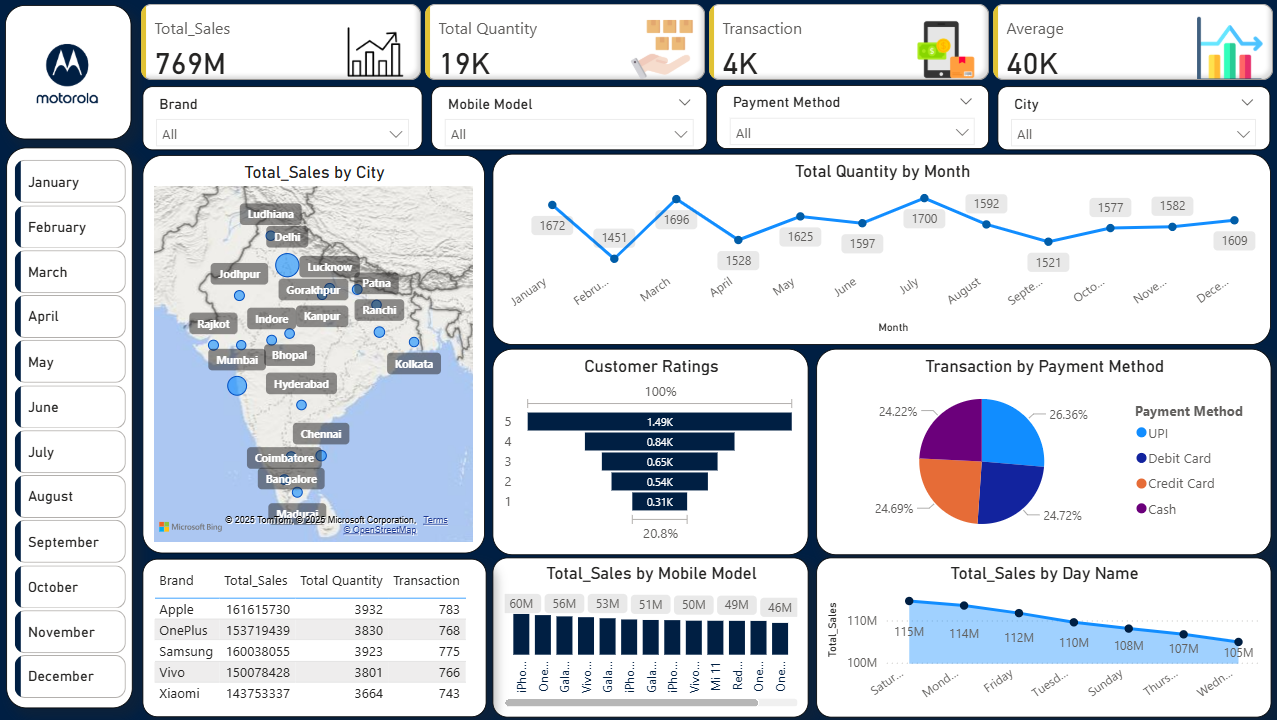

What the dashboard file says about the page in this screenshot:
{"tool":"powerbi","page":{"name":"Page 1","canvas":[1280,720],"ordinal":0},"visuals":[{"type":"shape","box":[4.4,4.4,126.7,134.4],"z":0},{"type":"image","box":[2.2,2.2,130,147.8],"z":1000},{"type":"shape","box":[6.7,147.8,126.7,561.1],"z":2000},{"type":"advancedSlicerVisual","fields":{"Values":["Sales_Data.Date.Variation.Date Hierarchy.Month"]},"box":[10,154.4,121.1,548.9],"z":3000},{"type":"cardVisual","fields":{"Data":["Sales_Data.Total_Sales","Sales_Data.Total Quantity","Sales_Data.Transaction","Sales_Data.Average"]},"box":[136.2,0,1143.8,85],"z":4000},{"type":"map","fields":{"Category":["Sales_Data.City"],"Size":["Sales_Data.Total_Sales"]},"box":[142.5,155,342.5,398.8],"z":5000},{"type":"lineChart","fields":{"Y":["Sales_Data.Total Quantity"],"Category":["Sales_Data.Date.Variation.Date Hierarchy.Month","Sales_Data.Date.Variation.Date Hierarchy.Day"]},"box":[492.5,153.8,778.8,191.2],"z":6000},{"type":"clusteredColumnChart","fields":{"Y":["Sales_Data.Total_Sales"],"Category":["Sales_Data.Mobile Model"]},"box":[492.5,557.5,316.2,160],"z":7000},{"type":"pieChart","fields":{"Category":["Sales_Data.Payment Method"],"Y":["Sales_Data.Transaction"]},"box":[816.2,348.8,455,206.2],"z":8000},{"type":"funnel","title":"Customer Ratings","fields":{"Category":["Sales_Data.Customer Ratings"],"Y":["CountNonNull(Sales_Data.Customer Ratings)"]},"box":[492.5,348.8,316.2,206.2],"z":9000},{"type":"stackedAreaChart","fields":{"Category":["Sales_Data.Day Name"],"Y":["Sales_Data.Total_Sales"]},"box":[816.2,557.5,455,160],"z":10000},{"type":"tableEx","fields":{"Values":["Sales_Data.Brand","Sales_Data.Total_Sales","Sales_Data.Total Quantity","Sales_Data.Transaction"]},"box":[142.5,558.8,343.8,158.8],"z":11000},{"type":"slicer","fields":{"Values":["Sales_Data.Brand"]},"box":[142.5,86.2,280,63.8],"z":12000},{"type":"slicer","fields":{"Values":["Sales_Data.Mobile Model"]},"box":[431.2,86.2,276.2,63.8],"z":13000},{"type":"slicer","fields":{"Values":["Sales_Data.Payment Method"]},"box":[716.2,85,272.5,63.8],"z":14000},{"type":"slicer","fields":{"Values":["Sales_Data.City"]},"box":[997.5,86.2,272.5,63.8],"z":15000}]}

Visuals, with their boxes in screenshot pixels (x1, y1, x2, y2), scaled from the page's 1280x720 canvas onto the 1277x720 screenshot:
shape: [left=4, top=4, right=131, bottom=139]
image: [left=2, top=2, right=132, bottom=150]
shape: [left=7, top=148, right=133, bottom=709]
advancedSlicerVisual - Sales_Data.Date.Variation.Date Hierarchy.Month: [left=10, top=154, right=131, bottom=703]
cardVisual - Sales_Data.Total_Sales x Sales_Data.Total Quantity: [left=136, top=0, right=1276, bottom=85]
map - Sales_Data.City x Sales_Data.Total_Sales: [left=142, top=155, right=484, bottom=554]
lineChart - Sales_Data.Total Quantity x Sales_Data.Date.Variation.Date Hierarchy.Month: [left=491, top=154, right=1268, bottom=345]
clusteredColumnChart - Sales_Data.Total_Sales x Sales_Data.Mobile Model: [left=491, top=558, right=807, bottom=718]
pieChart - Sales_Data.Payment Method x Sales_Data.Transaction: [left=814, top=349, right=1268, bottom=555]
"Customer Ratings" funnel: [left=491, top=349, right=807, bottom=555]
stackedAreaChart - Sales_Data.Day Name x Sales_Data.Total_Sales: [left=814, top=558, right=1268, bottom=718]
tableEx - Sales_Data.Brand x Sales_Data.Total_Sales: [left=142, top=559, right=485, bottom=718]
slicer - Sales_Data.Brand: [left=142, top=86, right=422, bottom=150]
slicer - Sales_Data.Mobile Model: [left=430, top=86, right=706, bottom=150]
slicer - Sales_Data.Payment Method: [left=715, top=85, right=986, bottom=149]
slicer - Sales_Data.City: [left=995, top=86, right=1267, bottom=150]
